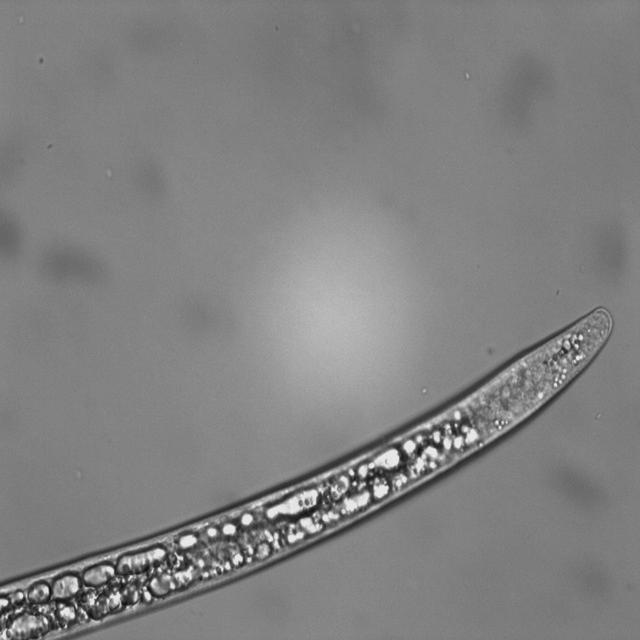Pratylenchus: (0, 305, 620, 640)
